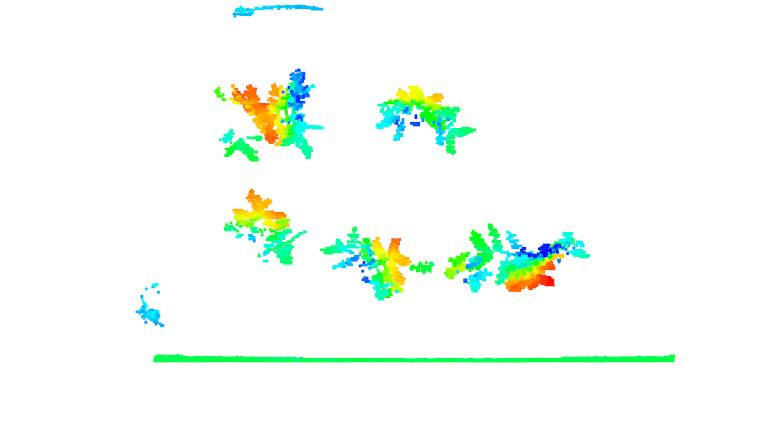chickpea: (448, 226, 590, 299), (322, 227, 434, 301), (376, 87, 476, 154), (223, 191, 305, 268), (211, 82, 276, 161), (270, 68, 319, 158)
